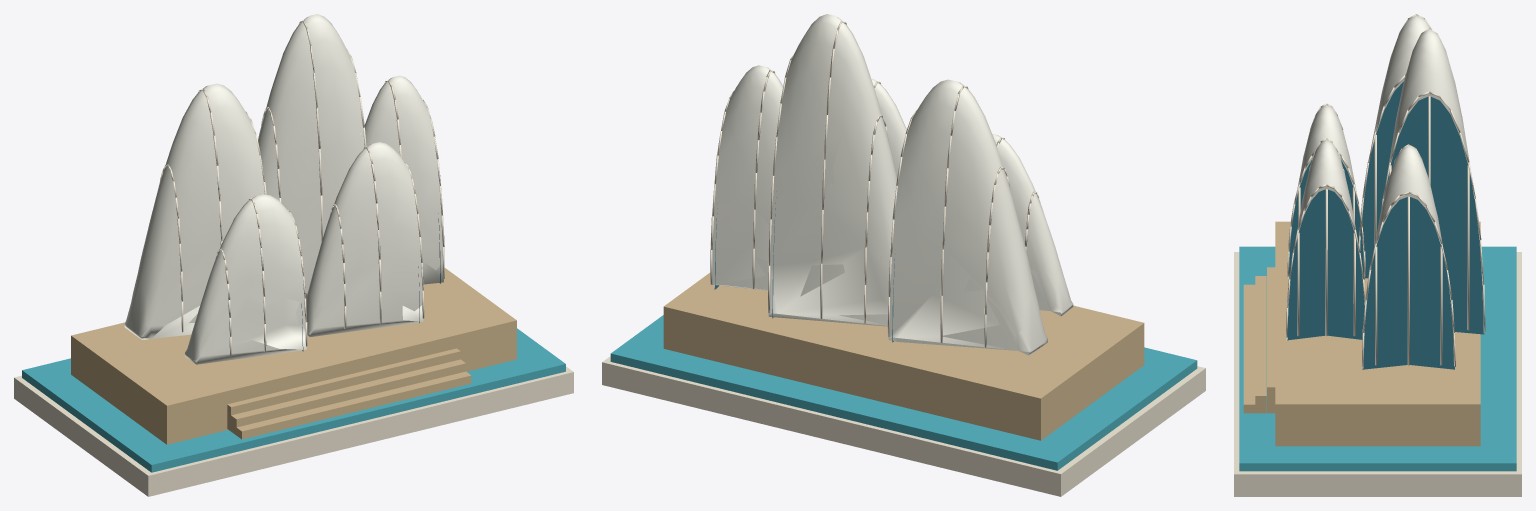
Rendered from sydney-opera-house.glb.
3 renders of one model, left to right at view 1: azimuth 30°, elevation 25°; view 2: azimuth 150°, elevation 25°; view 3: azimuth 270°, elevation 25°, orthographic. The views are drawn at different scales.
Parts seen in each view (by area): view 1: Sydney Opera House; view 2: Sydney Opera House; view 3: Sydney Opera House.
Part boxes in pixels (box(x1,y1,x2,y2)): Sydney Opera House: box(14, 14, 573, 496); Sydney Opera House: box(602, 14, 1205, 496); Sydney Opera House: box(1234, 14, 1521, 496).
Bounding box in the file's own units: 1.47 × 1.17 × 0.8063.
